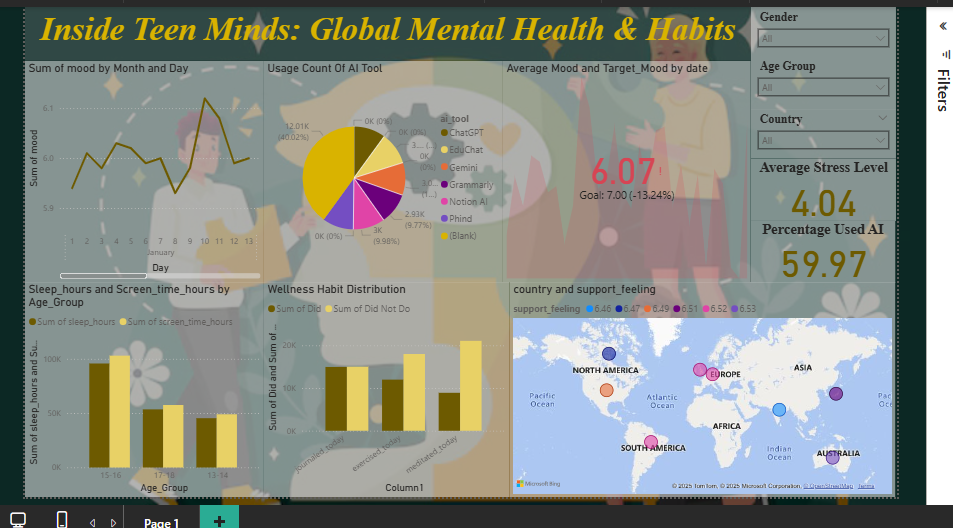

Layout of this report page (visuals, bound fields, positions):
{"tool":"powerbi","page":{"name":"Page 1","canvas":[1280,720],"ordinal":0},"visuals":[{"type":"card","title":"Average Stress Level","fields":{"Values":["modern_teen_mental_health_main.Avg Stress"]},"box":[1066.8,223.3,213.1,91.1],"z":0},{"type":"card","title":"Percentage Used AI","fields":{"Values":["modern_teen_mental_health_main.AI Usage %"]},"box":[1066.8,314.4,211.6,89.6],"z":1000},{"type":"kpi","fields":{"Indicator":["modern_teen_mental_health_main.Average Mood"],"TrendLine":["modern_teen_mental_health_main.date"],"Goal":["modern_teen_mental_health_main.Target_Mood"]},"box":[702.4,79.3,364.4,324.7],"z":2000},{"type":"clusteredColumnChart","title":" Sleep_hours and Screen_time_hours by Age_Group","fields":{"Category":["modern_teen_mental_health_main.Age_Group"],"Y":["modern_teen_mental_health_main.sleep_hours","modern_teen_mental_health_main.screen_time_hours"]},"box":[0,404.1,351.2,315.9],"z":3000},{"type":"clusteredColumnChart","title":"Wellness Habit Distribution","fields":{"Category":["wellness_habits_distribution.Column1"],"Y":["wellness_habits_distribution.Did","wellness_habits_distribution.Did Not Do"]},"box":[351.2,404.1,361.5,315.9],"z":4000},{"type":"lineChart","fields":{"Y":["daily_mood_stress_trends.mood"],"Category":["daily_mood_stress_trends.date.Variation.Date Hierarchy.Month","daily_mood_stress_trends.date.Variation.Date Hierarchy.Day"]},"box":[0,79.3,351.2,324.7],"z":4001},{"type":"pieChart","title":"Usage Count Of AI Tool","fields":{"Category":["ai_tool_popularity.ai_tool"],"Y":["ai_tool_popularity.usage_count","modern_teen_mental_health_main.Age_Group"]},"box":[351.2,79.3,351.2,324.7],"z":4002},{"type":"slicer","fields":{"Values":["average_mood_stress_by_gender.gender"]},"box":[1066.8,0,213.1,72],"z":4003},{"type":"map","fields":{"Category":["average_support_feeling_by_country.country"],"Series":["average_support_feeling_by_country.support_feeling"]},"box":[712.7,404.1,565.7,315.9],"z":4004},{"type":"textbox","box":[0,0,1066.8,79.3],"z":4005},{"type":"slicer","fields":{"Values":["modern_teen_mental_health_main.Age_Group"]},"box":[1066.8,72,213.1,77.9],"z":4006},{"type":"slicer","fields":{"Values":["modern_teen_mental_health_main.country"]},"box":[1066.8,149.9,213.1,73.5],"z":4007}]}

Visuals, with their boxes on the page's 1280x720 design canvas (x1, y1, x2, y2). These are canvas units, not pixel positions in the 953x528 screenshot, which may show the page scaled, cropped or inside an application window:
"Average Stress Level" card: 1067:223:1280:314
"Percentage Used AI" card: 1067:314:1278:404
kpi - modern_teen_mental_health_main.Average Mood x modern_teen_mental_health_main.date: 702:79:1067:404
" Sleep_hours and Screen_time_hours by Age_Group" clusteredColumnChart: 0:404:351:720
"Wellness Habit Distribution" clusteredColumnChart: 351:404:713:720
lineChart - daily_mood_stress_trends.mood x daily_mood_stress_trends.date.Variation.Date Hierarchy.Month: 0:79:351:404
"Usage Count Of AI Tool" pieChart: 351:79:702:404
slicer - average_mood_stress_by_gender.gender: 1067:0:1280:72
map - average_support_feeling_by_country.country x average_support_feeling_by_country.support_feeling: 713:404:1278:720
textbox: 0:0:1067:79
slicer - modern_teen_mental_health_main.Age_Group: 1067:72:1280:150
slicer - modern_teen_mental_health_main.country: 1067:150:1280:223
